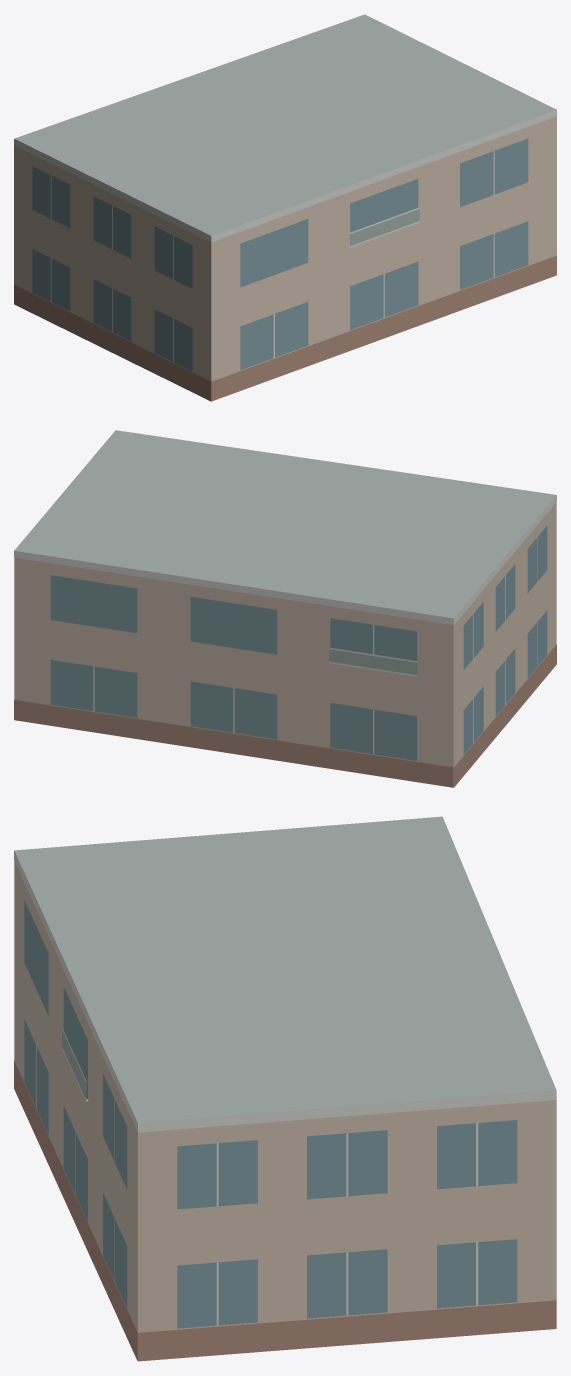
File: survey-upis-32596164.glb
3 renders of one model, top to bottom at view 1: azimuth 30°, elevation 25°; view 2: azimuth 150°, elevation 25°; view 3: azimuth 270°, elevation 25°, orthographic. The views are drawn at different scales.
Visible parts, largest first — view 1: survey-upis-32596164.tmp; view 2: survey-upis-32596164.tmp; view 3: survey-upis-32596164.tmp.
Part boxes in pixels (x1=…): survey-upis-32596164.tmp: x1=14, y1=14, x2=556, y2=401; survey-upis-32596164.tmp: x1=14, y1=430, x2=556, y2=787; survey-upis-32596164.tmp: x1=14, y1=816, x2=556, y2=1361.
Size of the model in its own units: 16.84 by 6.1 by 12.6.
